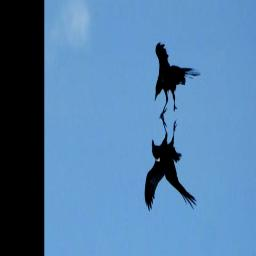Crow: (143, 112, 198, 212)
